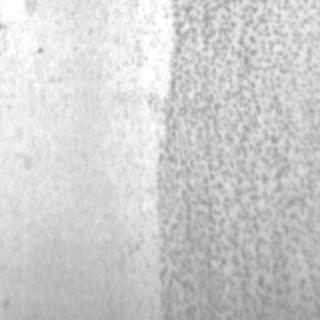pitted_surface: (150, 0, 318, 316)
